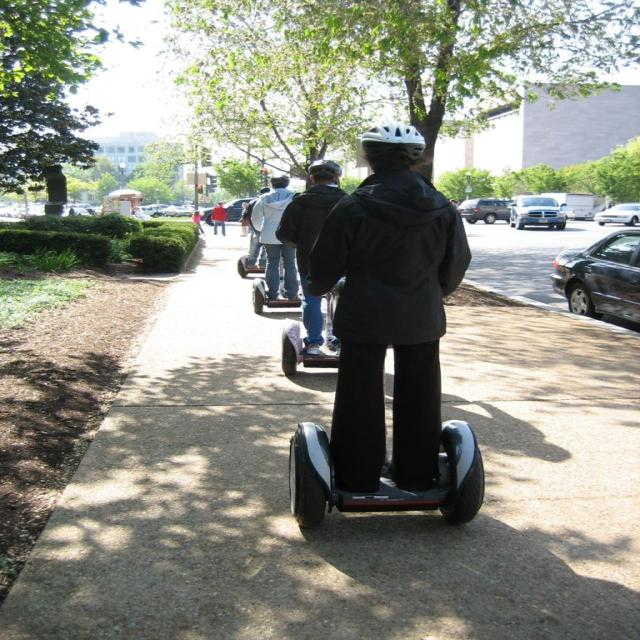car: (510, 193, 568, 229)
